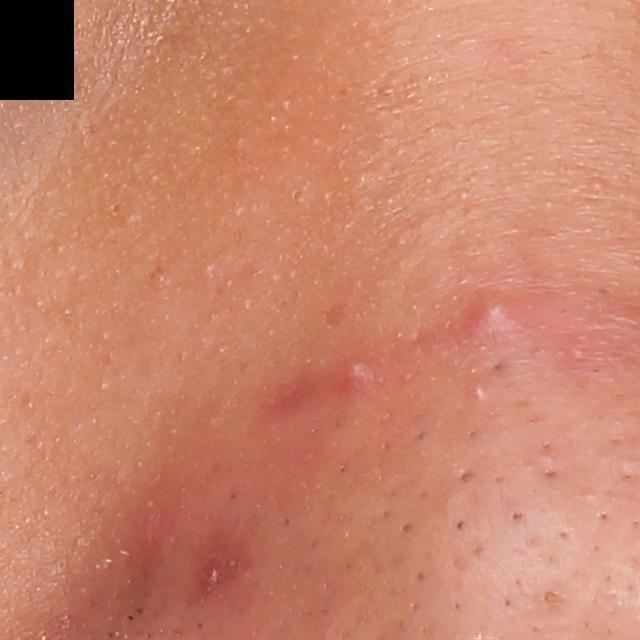atrophic_scar: (459, 465, 476, 486)
comedo: (595, 507, 615, 528), (542, 590, 564, 609), (508, 507, 528, 527), (397, 519, 417, 539), (451, 517, 470, 534)
papule: (339, 360, 374, 388)
